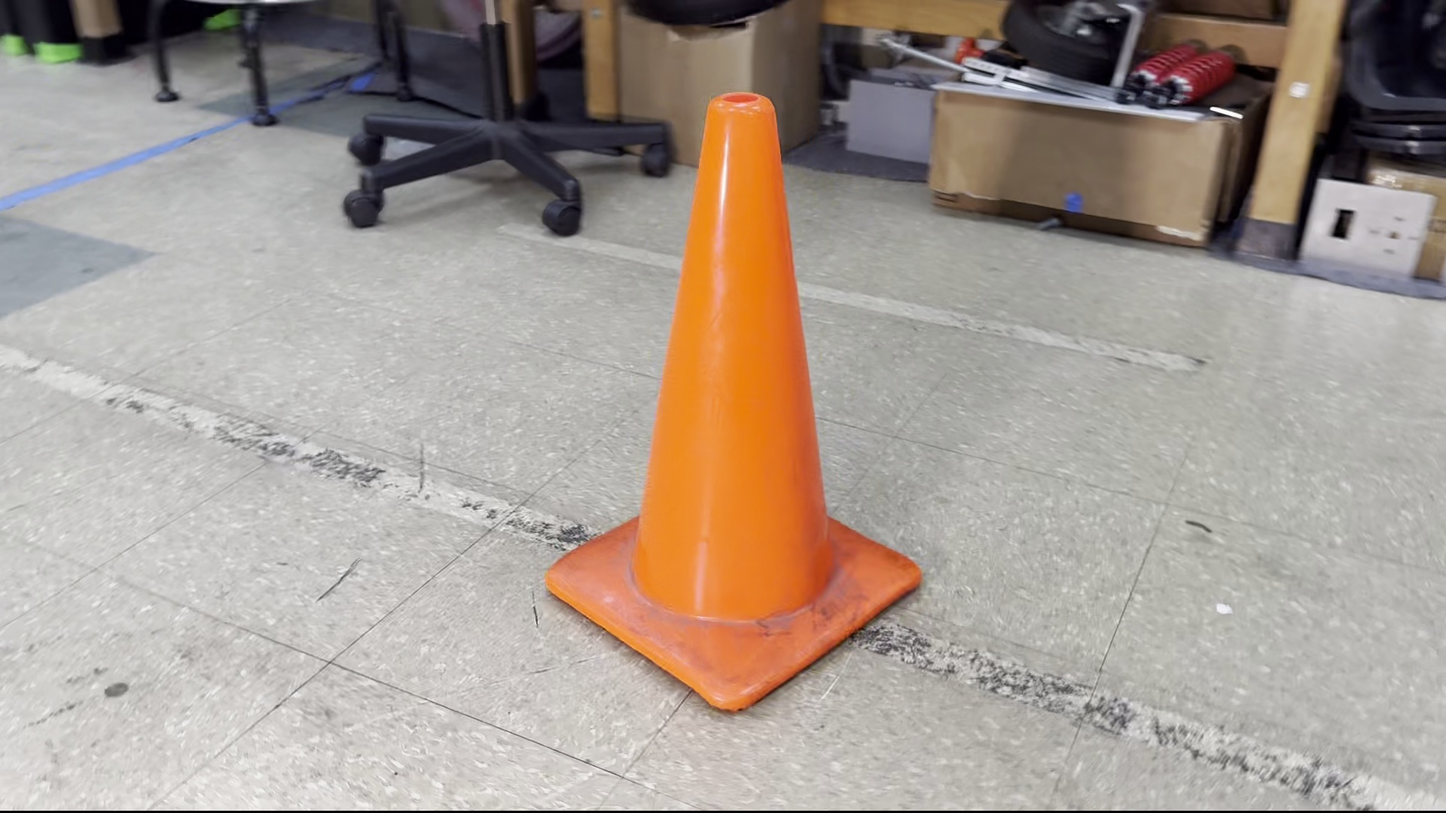traffic_cone: (544, 90, 923, 714)
